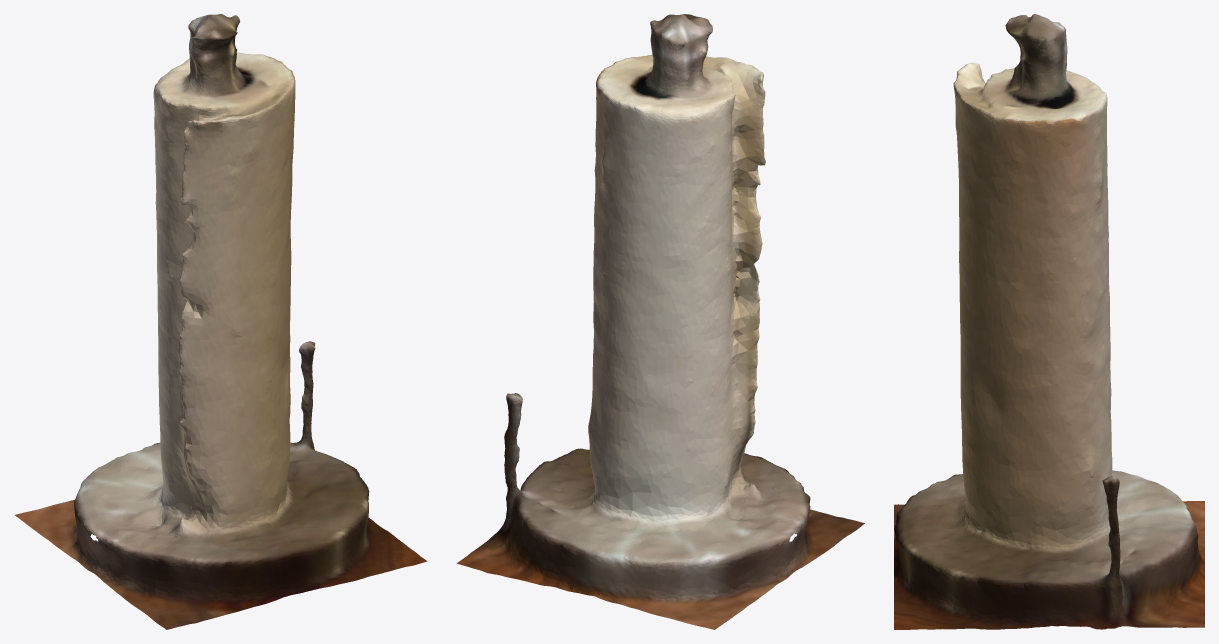
The model's file is paper-towel.obj.
3 views of the same model, side by side, from view 1: azimuth 30°, elevation 25°; view 2: azimuth 150°, elevation 25°; view 3: azimuth 270°, elevation 25° (orthographic). The views are drawn at different scales.
Visible parts, largest first — view 1: paper-towel-CloudCompare; view 2: paper-towel-CloudCompare; view 3: paper-towel-CloudCompare.
Part boxes in pixels (x1,y1,x2,y2): paper-towel-CloudCompare: (15, 14, 427, 629); paper-towel-CloudCompare: (456, 14, 864, 629); paper-towel-CloudCompare: (894, 14, 1204, 629).
Size of the model in its own units: 2.44 by 4.8 by 2.47.
